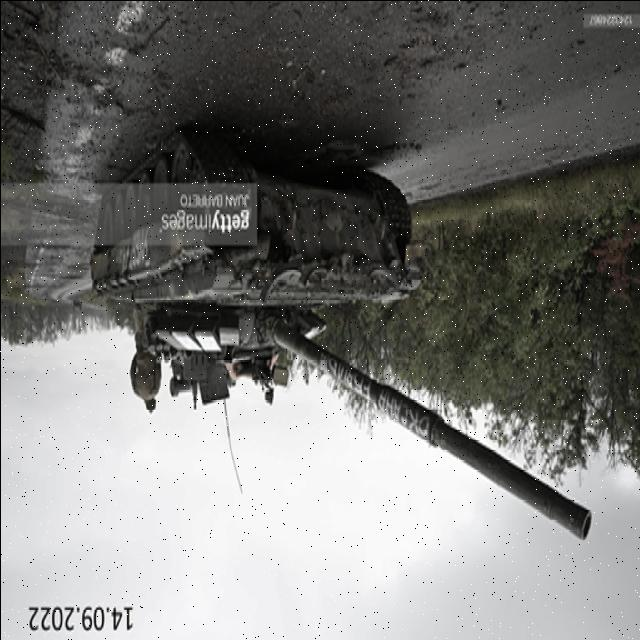TANK: (86, 128, 600, 562)
